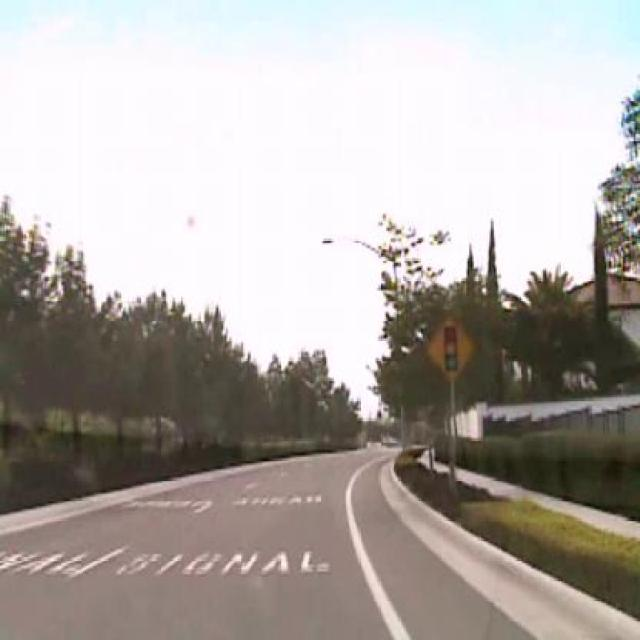signalAhead: (424, 314, 474, 381)
